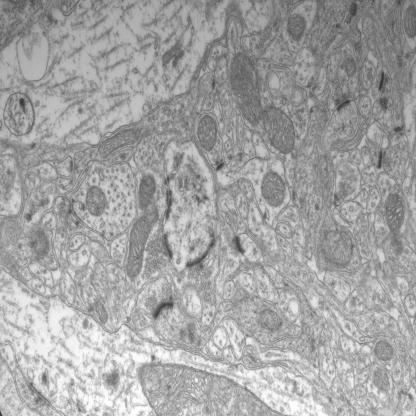mitochondria: (228, 51, 264, 125), (124, 209, 156, 282), (262, 105, 297, 156), (316, 229, 354, 270), (260, 167, 286, 212), (382, 191, 406, 237), (198, 110, 218, 154), (85, 185, 107, 219), (369, 365, 393, 396), (285, 12, 308, 44), (258, 308, 282, 336), (138, 173, 156, 208), (370, 340, 395, 365)
